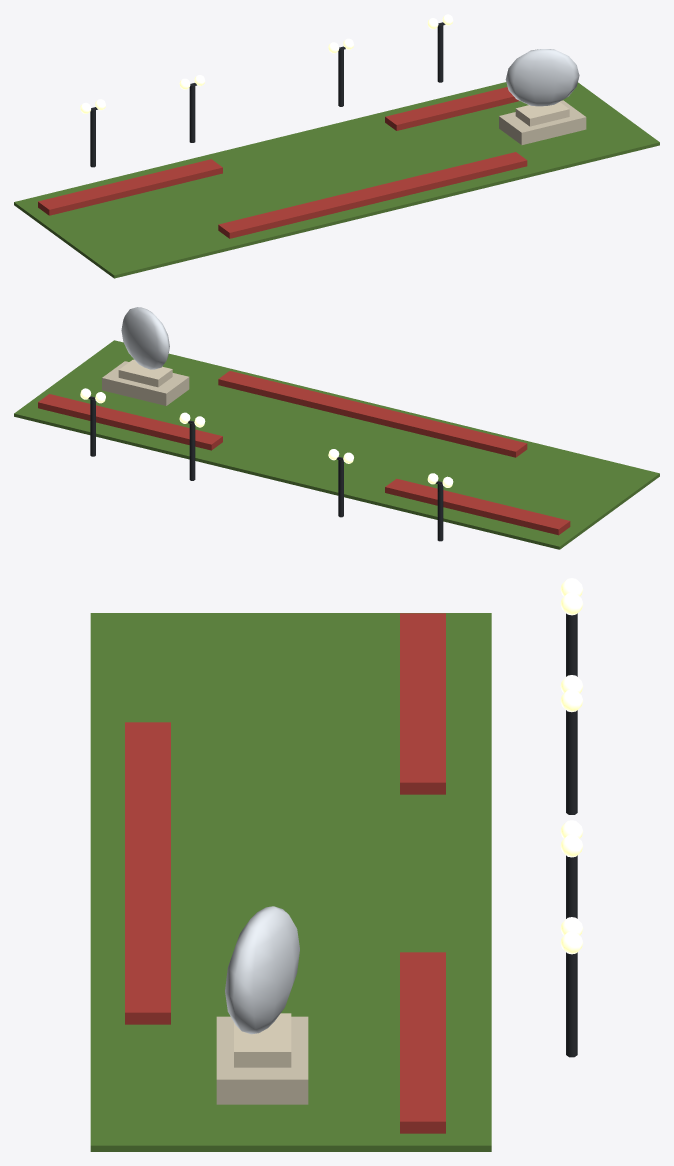
Rendered from monaco-casino-frente.glb.
The picture shows the model from 3 angles, top to bottom: view 1: azimuth 30°, elevation 25°; view 2: azimuth 150°, elevation 25°; view 3: azimuth 270°, elevation 25°; orthographic projection. The views are drawn at different scales.
Visible parts, largest first — view 1: monaco-marco (×9); view 2: monaco-marco (×9); view 3: monaco-marco (×9).
Part boxes in pixels (x1,y1,x2,y2): monaco-marco (×9): (14,24,659,278); monaco-marco (×9): (14,307,659,549); monaco-marco (×9): (90,613,577,1151).
Size of the model in its own units: 45.83 by 6.68 by 17.92.
